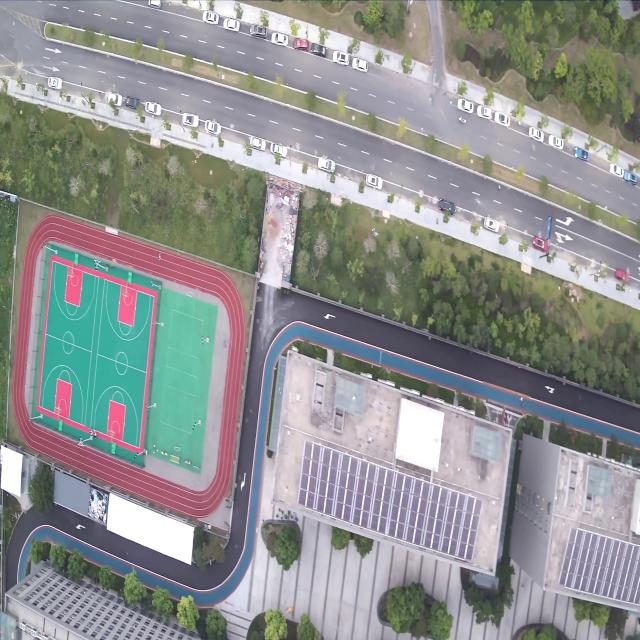drone: (277, 386, 282, 394)
